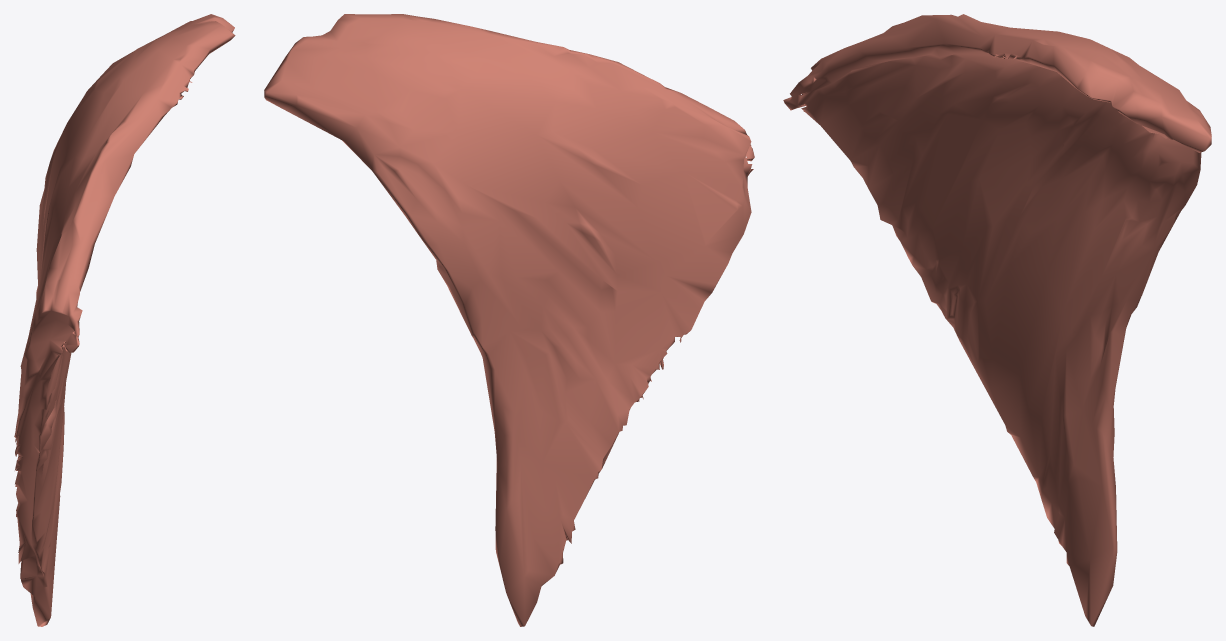
3 views of the same model, side by side, from view 1: azimuth 30°, elevation 25°; view 2: azimuth 150°, elevation 25°; view 3: azimuth 270°, elevation 25° (orthographic). The views are drawn at different scales.
Visible parts, largest first — view 1: 右侧髂尾肌; view 2: 右侧髂尾肌; view 3: 右侧髂尾肌.
Boxes of the visible parts, x1,y1,x2,y2 form: 右侧髂尾肌: (14, 14, 235, 626); 右侧髂尾肌: (264, 14, 754, 626); 右侧髂尾肌: (783, 14, 1211, 626).
Bounding box in the file's own units: 0.0676 × 0.1116 × 0.0659.
